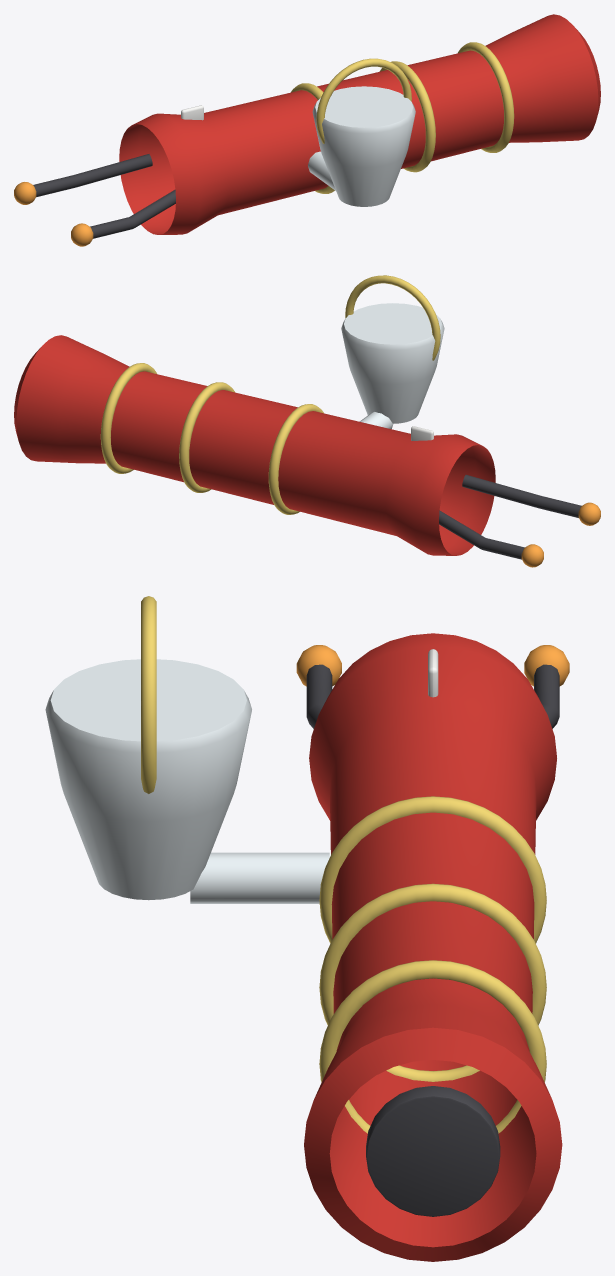
File: cannon_barrel.glb
3 renders of one model, top to bottom at view 1: azimuth 30°, elevation 25°; view 2: azimuth 150°, elevation 25°; view 3: azimuth 270°, elevation 25°, orthographic. The views are drawn at different scales.
Parts seen in each view (by area): view 1: barrel, hopper, handle-1, hoop0.95, lip, hoop0.6, handle1, chute, knob1, knob-1, hoop0.2; view 2: barrel, hopper, handle1, hoop0.95, hoop0.6, hoop0.2, lip, handle-1, knob1, knob-1; view 3: barrel, hopper, bore, hoop0.6, chute, hoop0.95, hoop0.2, lip, handle1, handle-1, knob1, knob-1.
Part boxes in pixels (bbox=[...]): barrel: bbox=[119, 14, 600, 234]; hopper: bbox=[312, 86, 415, 206]; handle-1: bbox=[33, 154, 152, 197]; hoop0.95: bbox=[458, 42, 514, 152]; lip: bbox=[316, 58, 411, 143]; hoop0.6: bbox=[379, 61, 435, 172]; handle1: bbox=[90, 189, 175, 238]; chute: bbox=[308, 151, 335, 190]; knob1: bbox=[71, 223, 93, 246]; knob-1: bbox=[14, 182, 36, 204]; hoop0.2: bbox=[291, 83, 334, 193]; barrel: bbox=[14, 335, 495, 555]; hopper: bbox=[341, 303, 444, 423]; handle1: bbox=[462, 474, 581, 517]; hoop0.95: bbox=[100, 363, 156, 473]; hoop0.6: bbox=[179, 382, 235, 492]; hoop0.2: bbox=[268, 404, 323, 514]; lip: bbox=[345, 275, 440, 360]; handle-1: bbox=[439, 510, 524, 559]; knob1: bbox=[578, 502, 600, 525]; knob-1: bbox=[521, 544, 543, 567]; barrel: bbox=[304, 633, 562, 1261]; hopper: bbox=[45, 659, 251, 900]; bore: bbox=[366, 1086, 500, 1216]; hoop0.6: bbox=[319, 883, 546, 1081]; chute: bbox=[190, 852, 329, 903]; hoop0.95: bbox=[319, 960, 546, 1133]; hoop0.2: bbox=[319, 796, 546, 943]; lip: bbox=[141, 596, 156, 793]; handle1: bbox=[306, 664, 332, 728]; handle-1: bbox=[534, 664, 559, 728]; knob1: bbox=[296, 645, 341, 686]; knob-1: bbox=[524, 645, 569, 686].
Bounding box in the file's own units: 2.39 × 0.831 × 1.01.
